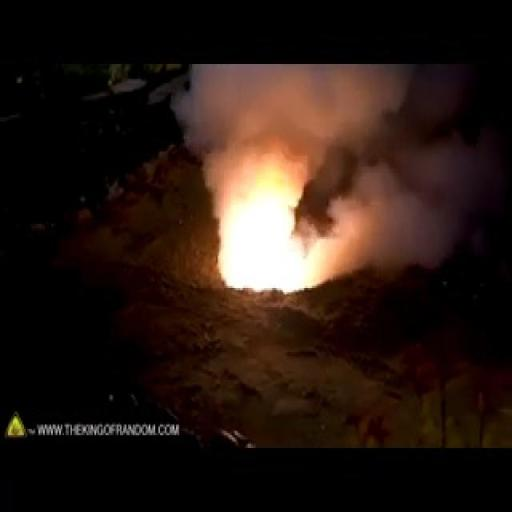smoke: (186, 168, 329, 310)
